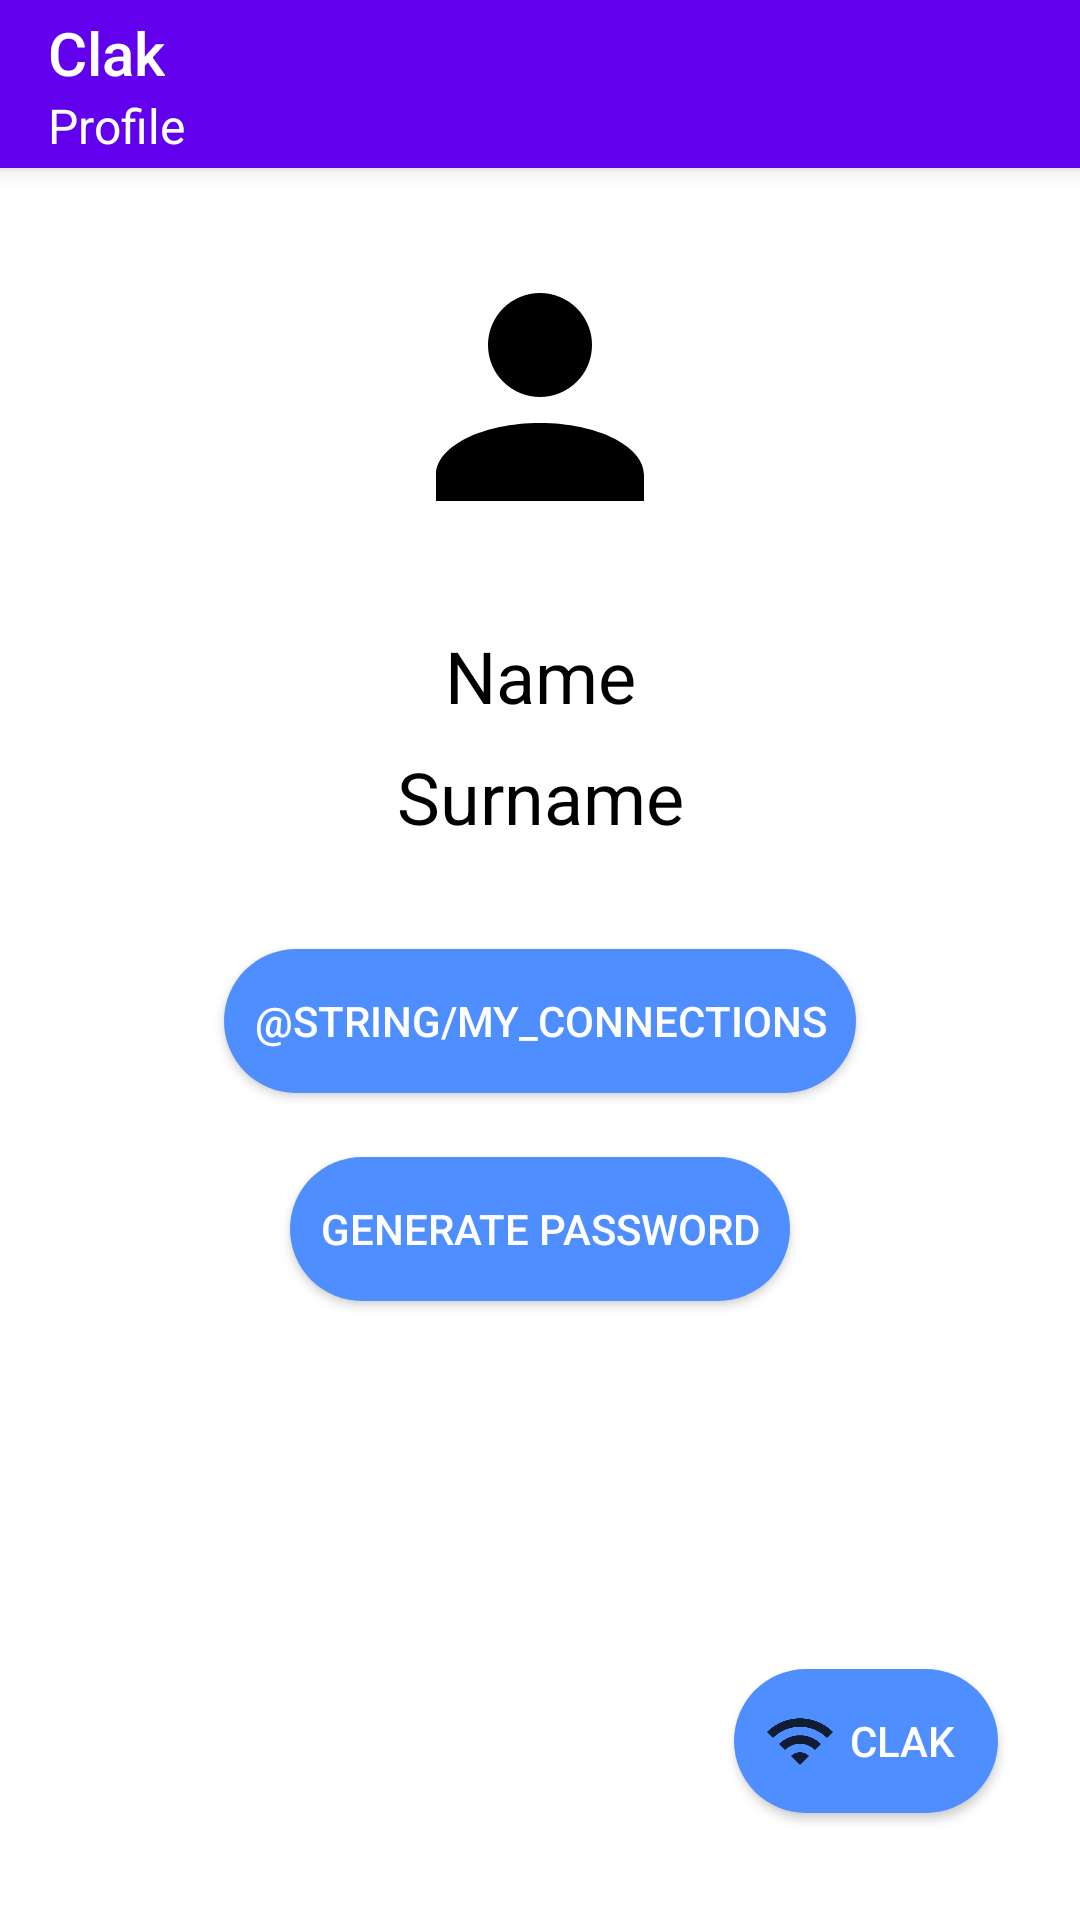

Point at icon controls on the screen. Image size 1080 × 1920, points as (x=x, y=y).
account: (x=540, y=397)
